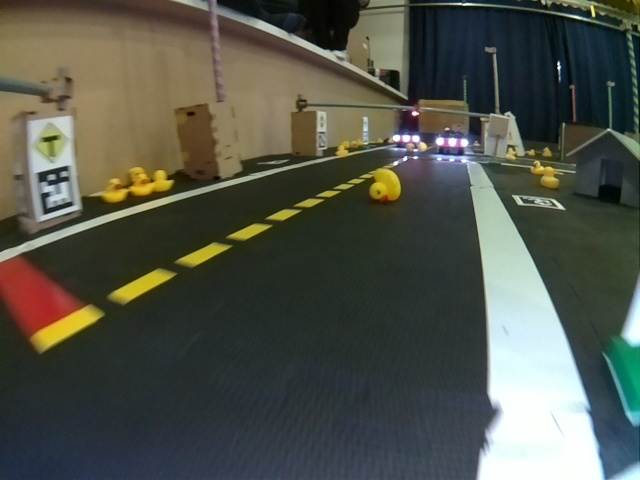Duckie: (371, 169, 401, 201), (105, 178, 125, 200), (154, 170, 174, 192), (132, 175, 152, 194), (543, 168, 557, 188), (130, 167, 145, 181), (531, 161, 543, 172), (336, 145, 344, 155), (507, 151, 515, 159)
Duckiebot: (438, 132, 466, 154), (394, 130, 421, 147)
Intersection sign: (29, 121, 72, 163)
QR code: (36, 165, 77, 215), (515, 195, 562, 209), (318, 132, 328, 148)
Traffic light: (413, 109, 420, 115)
